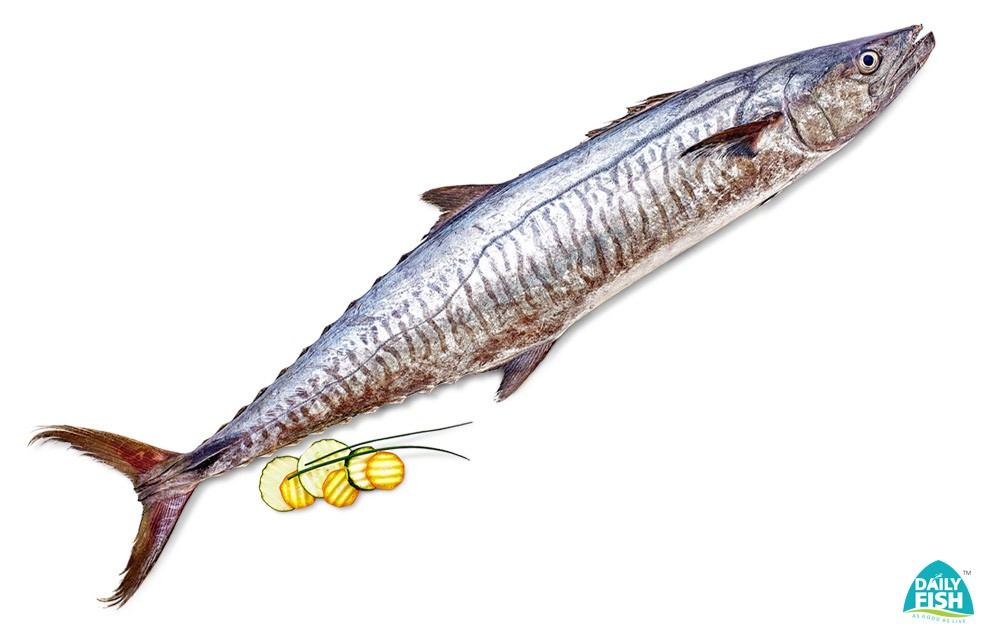Surmai: (22, 20, 942, 606)
